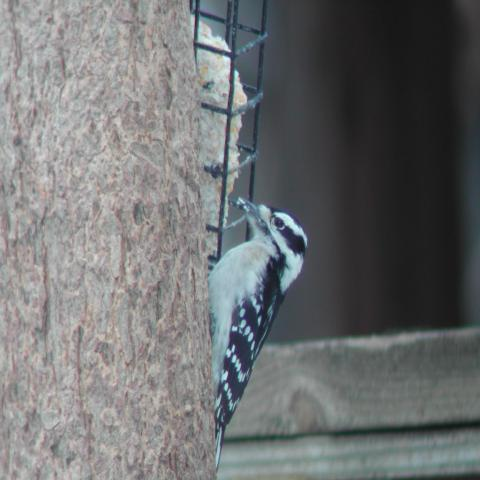bird: (206, 194, 309, 471)
